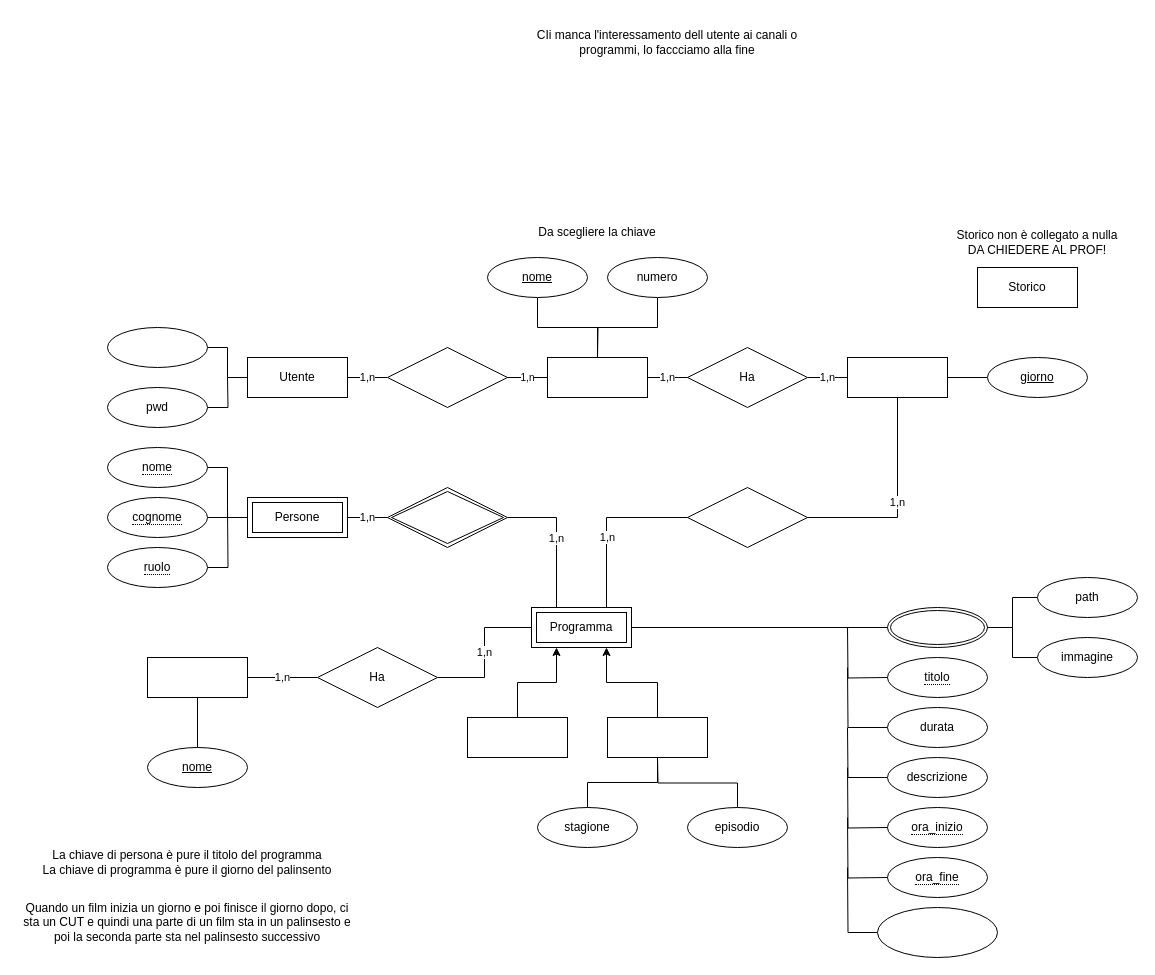
The diagram is 1155 pixels wide and 975 high, and some of its shapes have lost their labels. Here are the shapes that lost their labels. From the top down, the centre of each, then its label:
(157,347): email
(447,377): Visualizza
(597,377): Canale
(897,377): Palinsesto
(447,517): Partecipano
(747,517): Comprende
(937,627): link
(197,677): Genere
(517,737): Film
(657,737): Serie Tv
(937,932): data_pubblicazione
